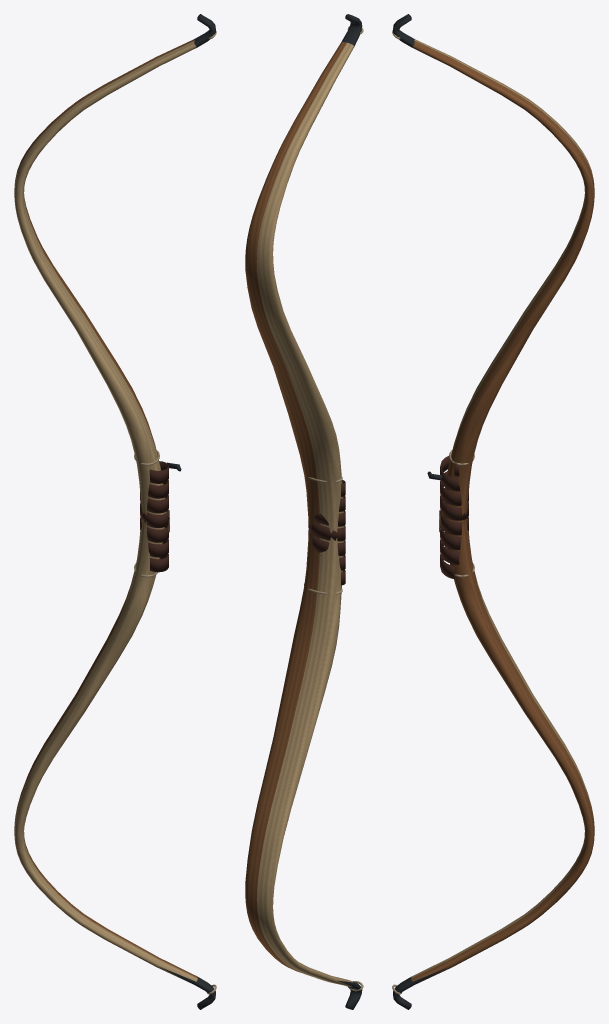
File: bow_lod1.glb
3 views of the same model, side by side, from view 1: azimuth 90°, elevation 25°; view 2: azimuth 150°, elevation 25°; view 3: azimuth 270°, elevation 25° (orthographic).
Parts seen in each view (by area): view 1: BowMesh_LOD1; view 2: BowMesh_LOD1; view 3: BowMesh_LOD1.
Boxes of the visible parts, <box> form: BowMesh_LOD1: <box>14,14,216,1009</box>; BowMesh_LOD1: <box>245,14,363,1009</box>; BowMesh_LOD1: <box>392,14,594,1009</box>.
Bounding box in the file's own units: 0.0641 × 1.48 × 0.2727.
Materials: 6 (4 with a texture image).
